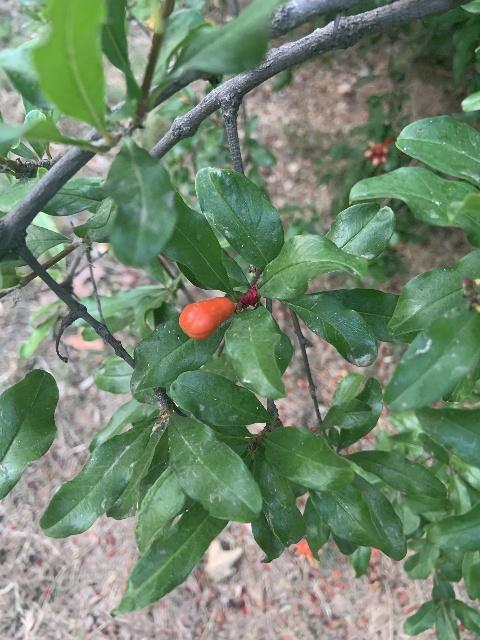bud: (179, 297, 234, 340)
